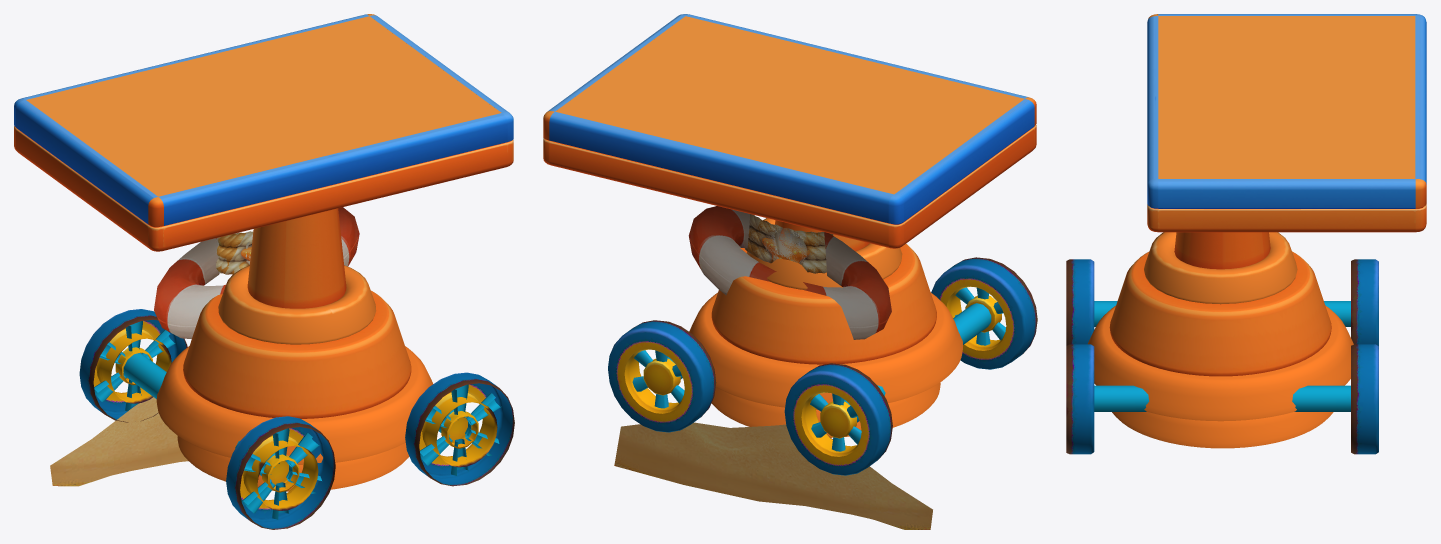
File: Table.glb
The picture shows the model from 3 angles, left to right: view 1: azimuth 30°, elevation 25°; view 2: azimuth 150°, elevation 25°; view 3: azimuth 270°, elevation 25°; orthographic projection. The views are drawn at different scales.
Bounding box in the file's own units: 3.17 × 3.15 × 2.8.
Materials: 3 (3 with a texture image).
